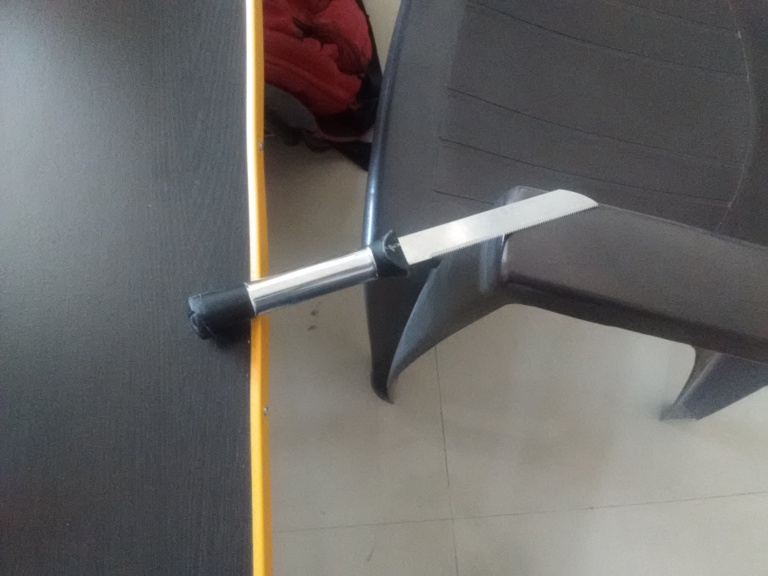knife: (186, 183, 599, 342)
